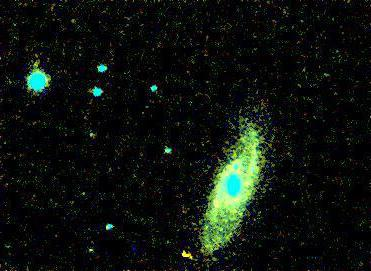star: (169, 240, 199, 270)
